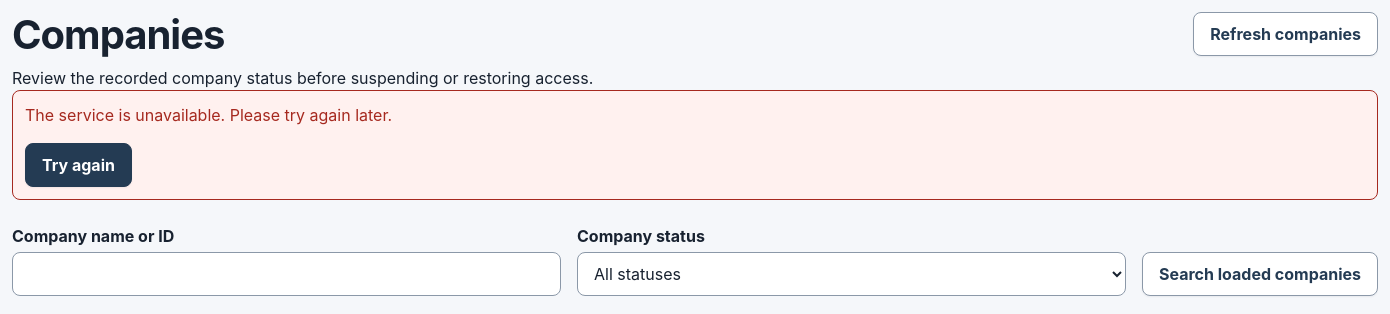
Test: distinguishes an empty list from a failed read and explicitly retries only the read
Click the button "Try again": (78, 165) [25,143,132,187]
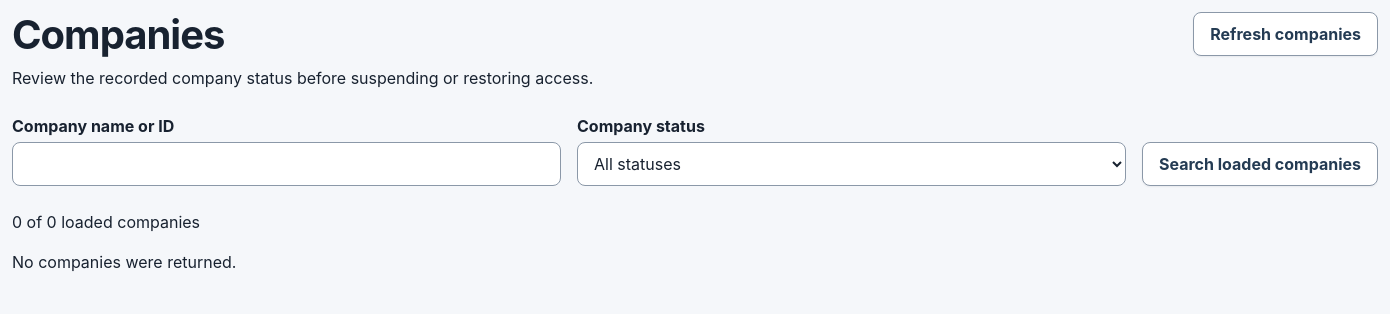
expect the text "No companies were returned." is shown: met, box [12,252,236,272]
